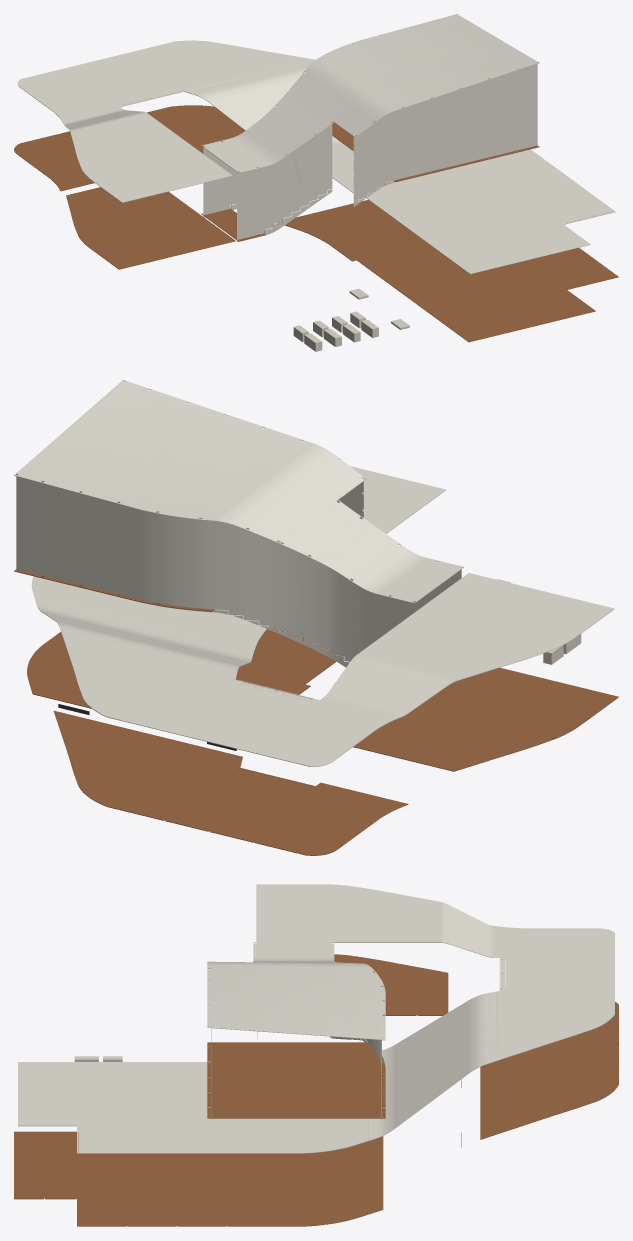
File: finishes.glb
3 views of the same model, one above another, from view 1: azimuth 30°, elevation 25°; view 2: azimuth 150°, elevation 25°; view 3: azimuth 270°, elevation 25° (orthographic). The views are drawn at different scales.
Parts seen in each view (by area): view 1: finishes-10-1, finishes-8-0, finishes-52-6, finishes-56-7, finishes-37-5; view 2: finishes-10-1, finishes-8-0, finishes-56-7, finishes-52-6; view 3: finishes-10-1, finishes-8-0, finishes-56-7.
Part boxes in pixels (bbox=[...]): finishes-10-1: bbox=[17, 40, 615, 274]; finishes-8-0: bbox=[14, 105, 618, 342]; finishes-52-6: bbox=[203, 62, 537, 242]; finishes-56-7: bbox=[201, 14, 539, 173]; finishes-37-5: bbox=[293, 288, 409, 351]; finishes-10-1: bbox=[31, 466, 614, 766]; finishes-8-0: bbox=[14, 569, 618, 855]; finishes-56-7: bbox=[14, 380, 463, 603]; finishes-52-6: bbox=[16, 474, 461, 667]; finishes-10-1: bbox=[18, 884, 614, 1153]; finishes-8-0: bbox=[14, 954, 618, 1226]; finishes-56-7: bbox=[207, 942, 385, 1040].
Bounding box in the file's own units: 19.11 × 7.67 × 22.21.
